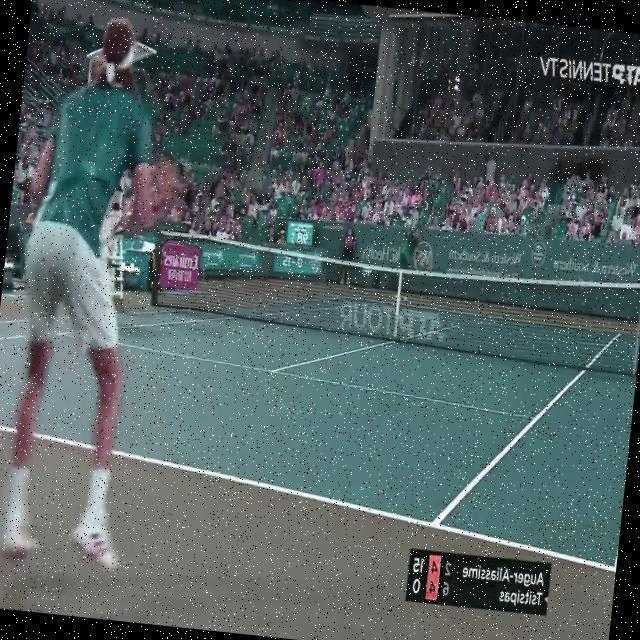court: (0, 258, 640, 573)
net: (146, 226, 640, 376)
player: (0, 4, 204, 576)
